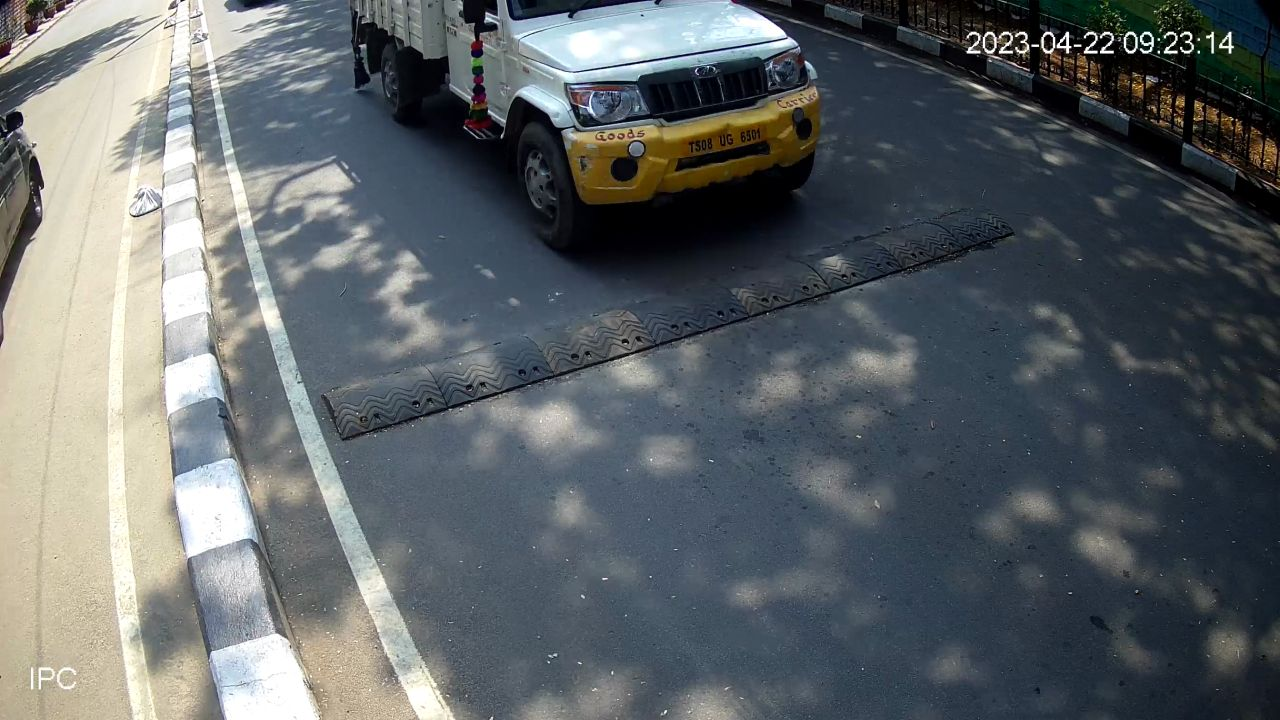license_plate: (682, 120, 766, 163)
